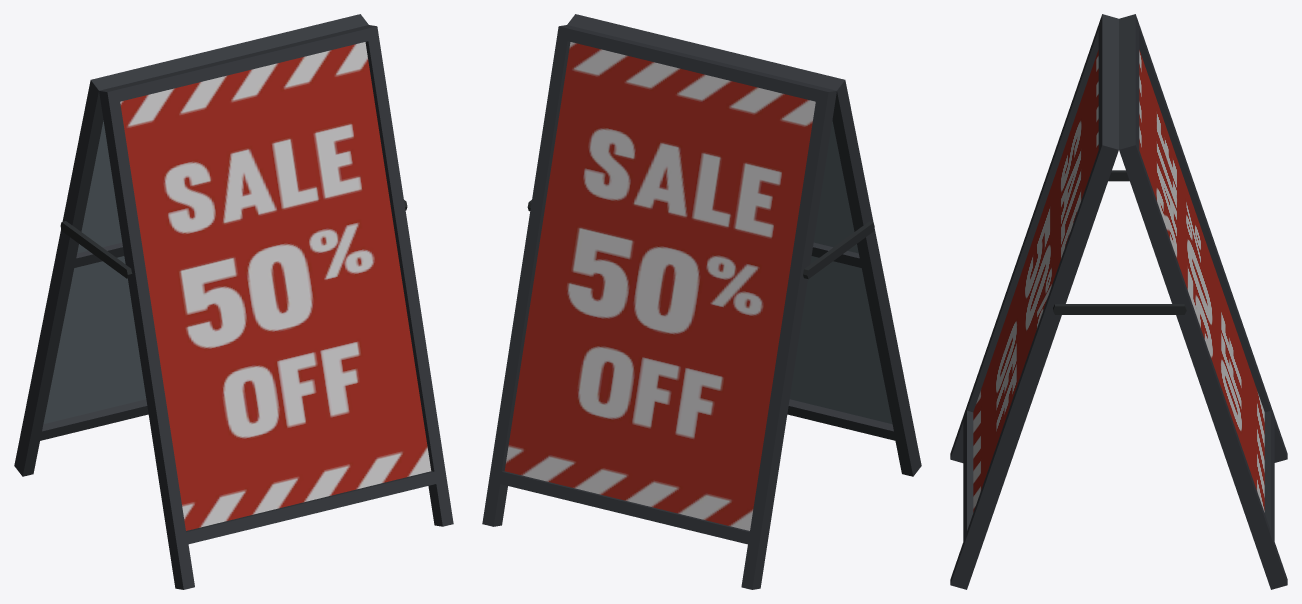
File: SM_Sign_Foldout_05.obj
3 renders of one model, left to right at view 1: azimuth 30°, elevation 25°; view 2: azimuth 150°, elevation 25°; view 3: azimuth 270°, elevation 25°, orthographic.
Parts seen in each view (by area): view 1: SM_Sign_Foldout_05_0; view 2: SM_Sign_Foldout_05_0; view 3: SM_Sign_Foldout_05_0.
Part boxes in pixels (left/top/right/bottom): SM_Sign_Foldout_05_0: left=14, top=14, right=453, bottom=589; SM_Sign_Foldout_05_0: left=482, top=14, right=921, bottom=589; SM_Sign_Foldout_05_0: left=950, top=14, right=1287, bottom=589.
Bounding box in the file's own units: 0.6709 × 1.02 × 0.704.
1 material, 1 textured.
